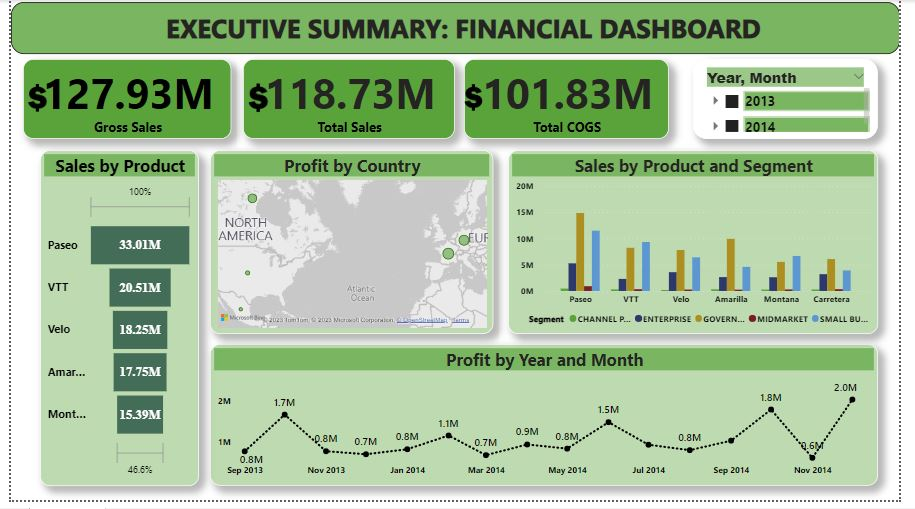

The page's visual inventory and layout, read from the dashboard file:
{"tool":"powerbi","page":{"name":"DASHBOARD","canvas":[1280,720],"ordinal":0},"visuals":[{"type":"textbox","box":[0,2.9,1280.2,74.9],"z":0},{"type":"card","fields":{"Values":["Sum(financials.Gross Sales)"]},"box":[17.3,85,299.5,115.2],"z":1000},{"type":"card","fields":{"Values":["Sum(financials. Sales)"]},"box":[334.1,85,305.3,115.2],"z":2000},{"type":"card","fields":{"Values":["Sum(financials.COGS)"]},"box":[652.3,85,295.2,115.2],"z":3000},{"type":"lineChart","title":"Profit by Year and Month","fields":{"Category":["Calendar_Lookup.Date.Variation.Date Hierarchy.Year","Calendar_Lookup.Date.Variation.Date Hierarchy.Month"],"Y":["Sum(financials.Profit)"]},"box":[286.6,495.4,961.9,204.5],"z":4000},{"type":"map","title":" Profit by Country","fields":{"Category":["financials.Country"],"Size":["Sum(financials.Profit)"]},"box":[286.6,216,301,265],"z":5000},{"type":"clusteredColumnChart","title":"Sales by Product and Segment","fields":{"Category":["financials.Product"],"Y":["Sum(financials. Sales)"],"Series":["financials.Segment"]},"box":[613.4,216,368.6,265],"z":6000},{"type":"slicer","fields":{"Values":["Calendar_Lookup.Date.Variation.Date Hierarchy.Year","Calendar_Lookup.Date.Variation.Date Hierarchy.Month"]},"box":[1006.6,85,241.9,396],"z":7000},{"type":"funnel","title":"Sales by Product","fields":{"Category":["financials.Product"],"Y":["Sum(financials. Sales)"]},"box":[41.8,216,229,483.8],"z":8000},{"type":"image","box":[0,64.8,76.3,151.2],"z":9000},{"type":"image","box":[316.8,64.8,77.8,151.2],"z":10000},{"type":"image","box":[629.3,64.8,73.4,151.2],"z":11000}]}

Visuals, with their boxes in screenshot pixels (x1, y1, x2, y2), scaled from the page's 1280x720 canvas onto the 915x509 screenshot:
textbox: 0, 2, 914, 55
card - Sum(financials.Gross Sales): 12, 60, 226, 142
card - Sum(financials. Sales): 239, 60, 457, 142
card - Sum(financials.COGS): 466, 60, 677, 142
"Profit by Year and Month" lineChart: 205, 350, 892, 495
" Profit by Country" map: 205, 153, 420, 340
"Sales by Product and Segment" clusteredColumnChart: 438, 153, 702, 340
slicer - Calendar_Lookup.Date.Variation.Date Hierarchy.Year x Calendar_Lookup.Date.Variation.Date Hierarchy.Month: 720, 60, 892, 340
"Sales by Product" funnel: 30, 153, 194, 495
image: 0, 46, 55, 153
image: 226, 46, 282, 153
image: 450, 46, 502, 153
